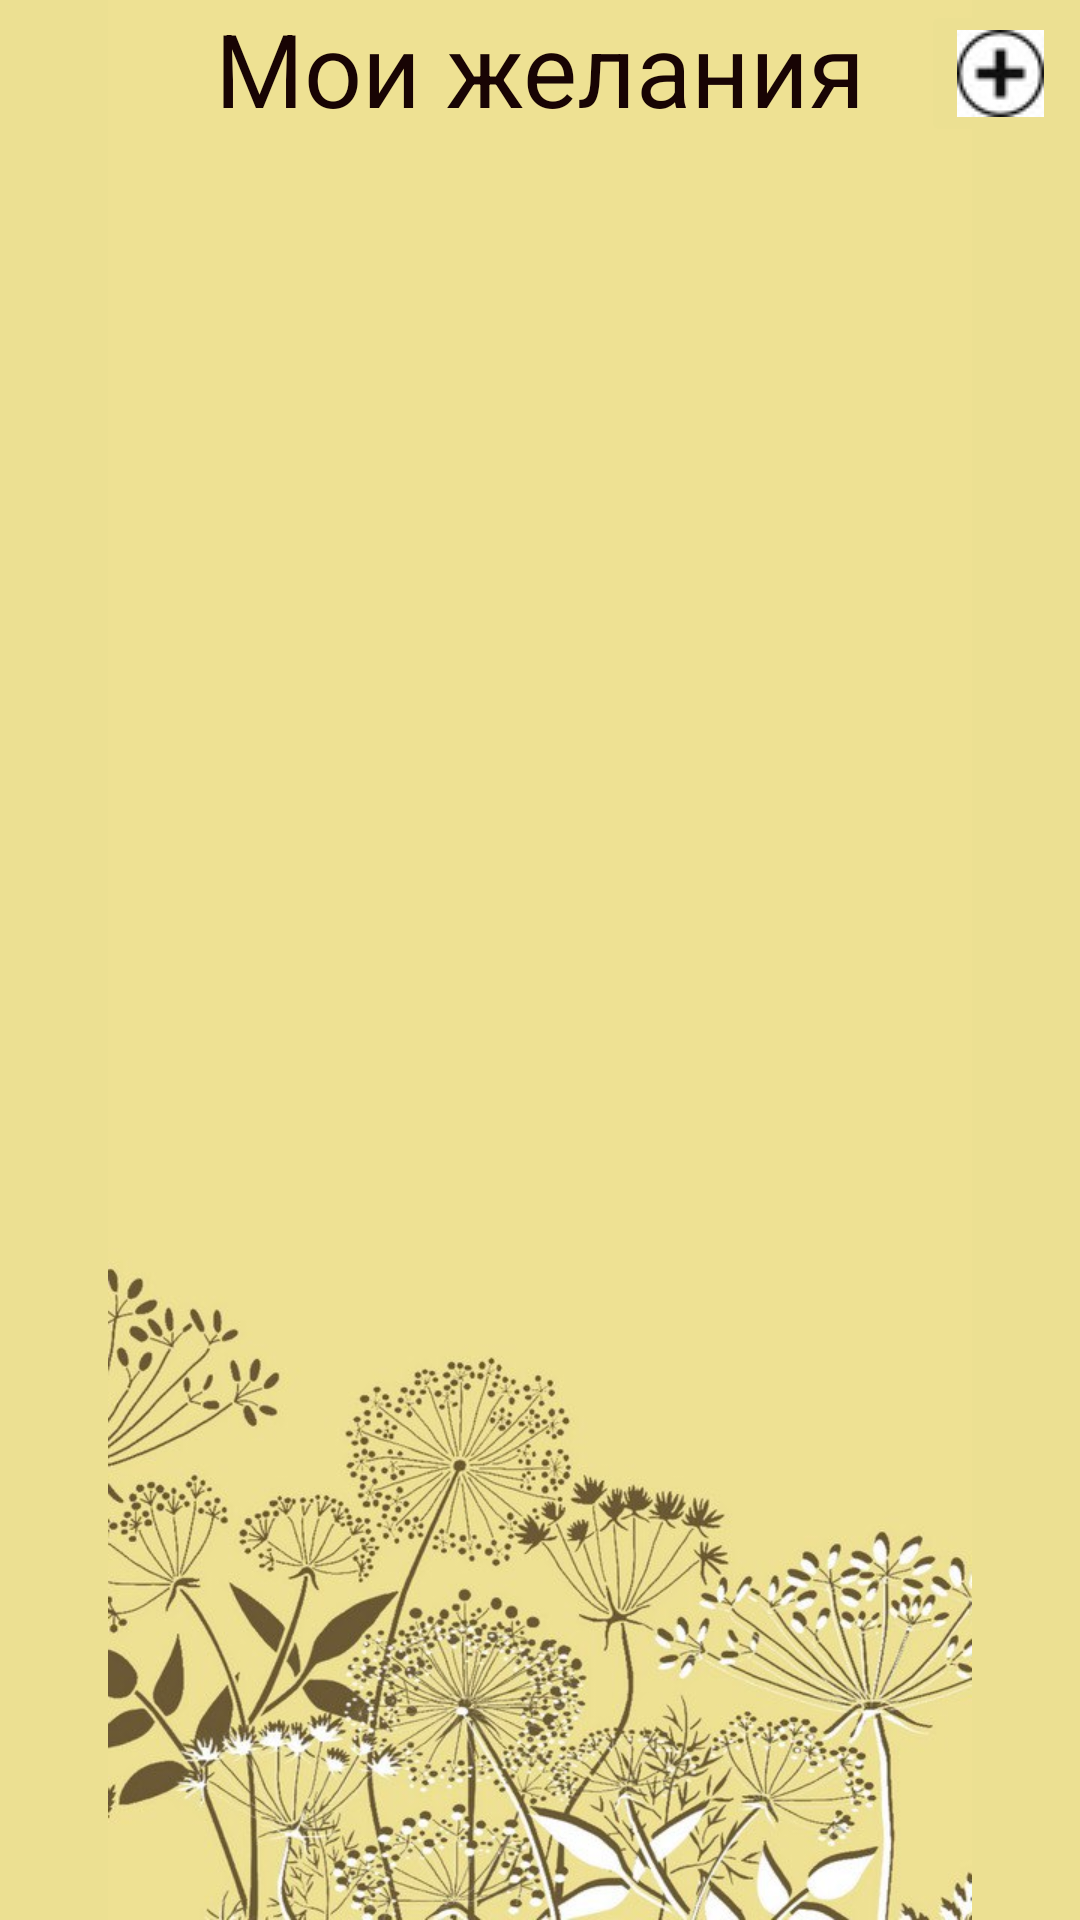

Icon bounding boxes for this 1080 x 1920 phone screenshot, format (x1, y1, x2, y2):
add: (957, 30, 1044, 117)
